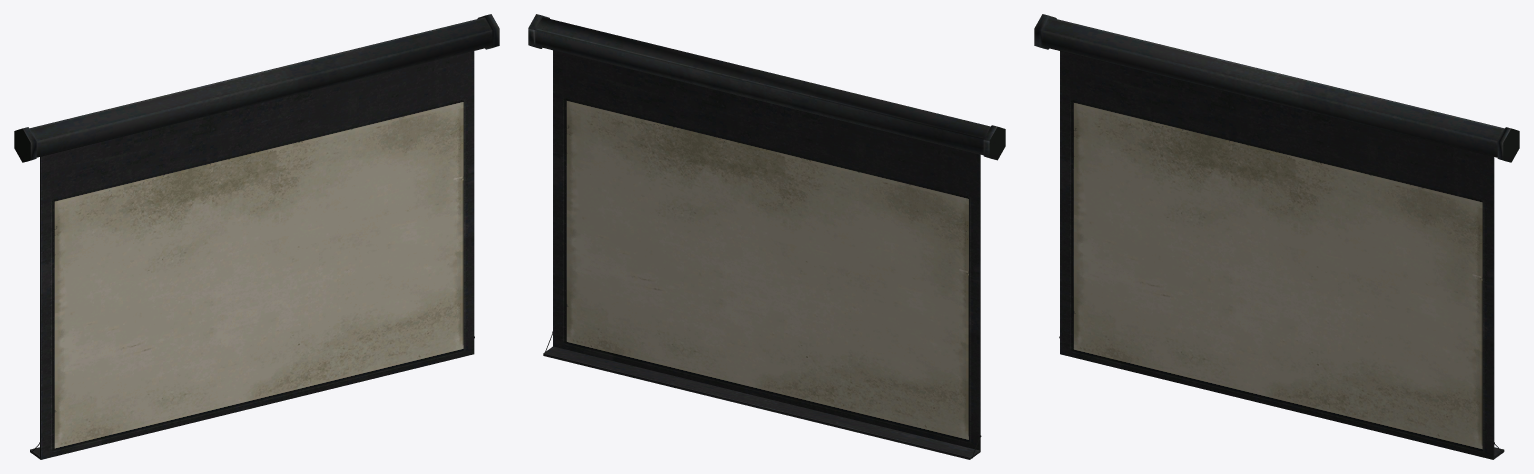
Rendered from Prop_Tyb01.glb.
3 renders of one model, left to right at view 1: azimuth 30°, elevation 25°; view 2: azimuth 150°, elevation 25°; view 3: azimuth 330°, elevation 25°, orthographic.
Parts seen in each view (by area): view 1: xiutz_tyb_01; view 2: xiutz_tyb_01; view 3: xiutz_tyb_01.
Part boxes in pixels (x1,y1,x2,y2): xiutz_tyb_01: (14, 14, 499, 459); xiutz_tyb_01: (528, 14, 1005, 459); xiutz_tyb_01: (1034, 14, 1519, 459).
Size of the model in its own units: 3.52 by 2.41 by 0.2425.
1 material, 1 textured.
